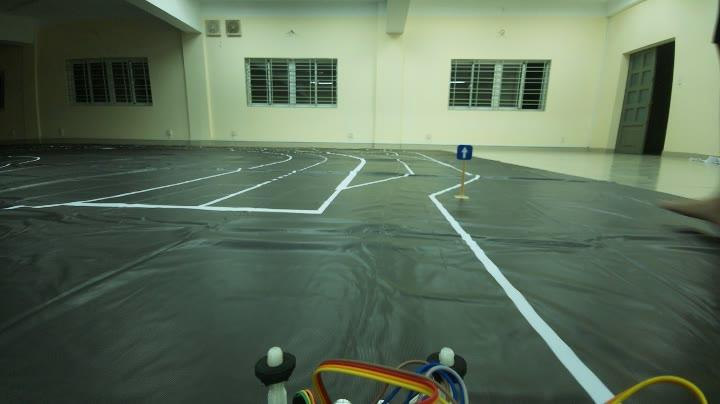onewayroad: (455, 138, 476, 166)
